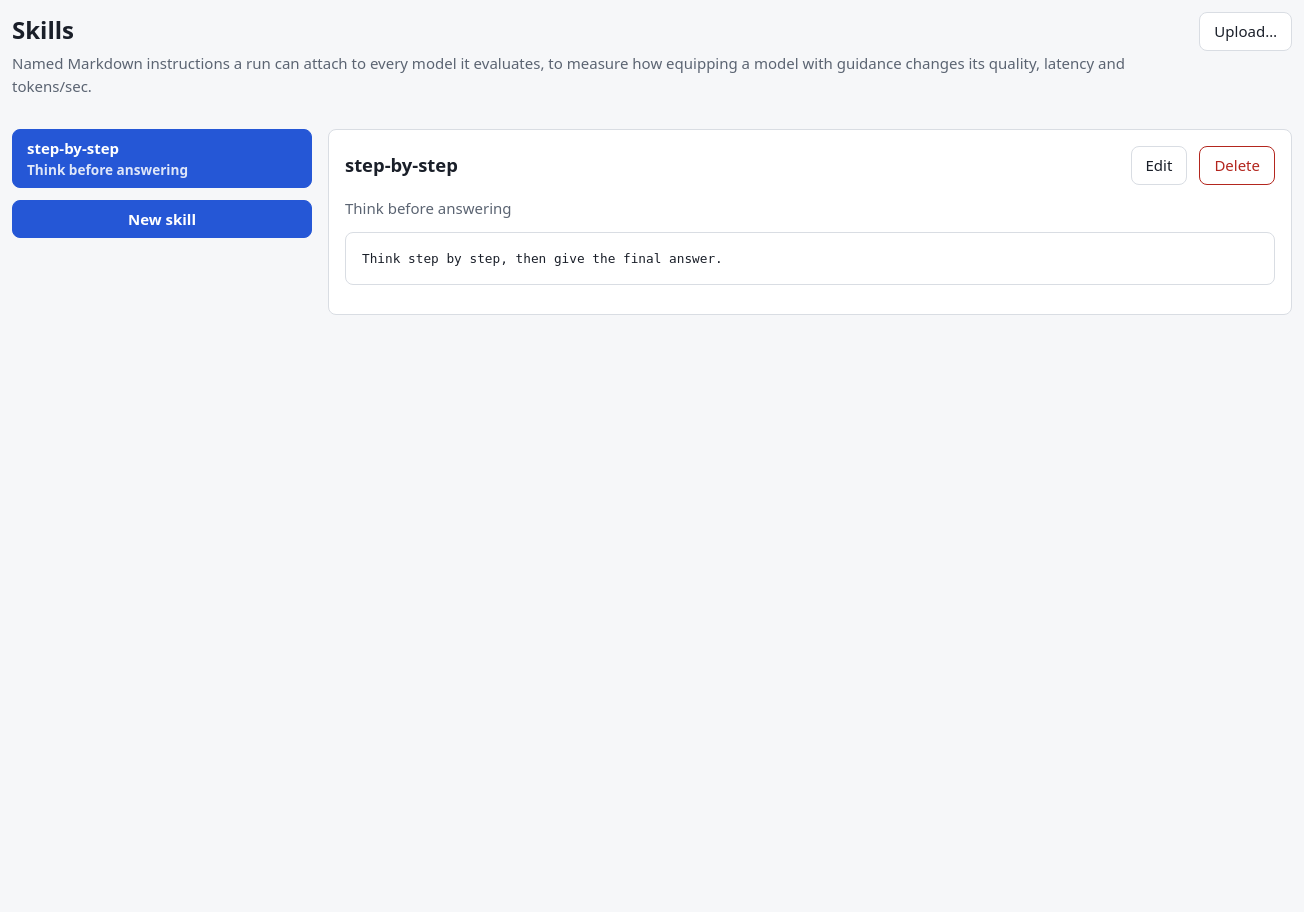
Test: skills page › edits a skill’s instructions
Click the button "Edit" at coordinates (1159, 165), box [1130,146,1187,184]
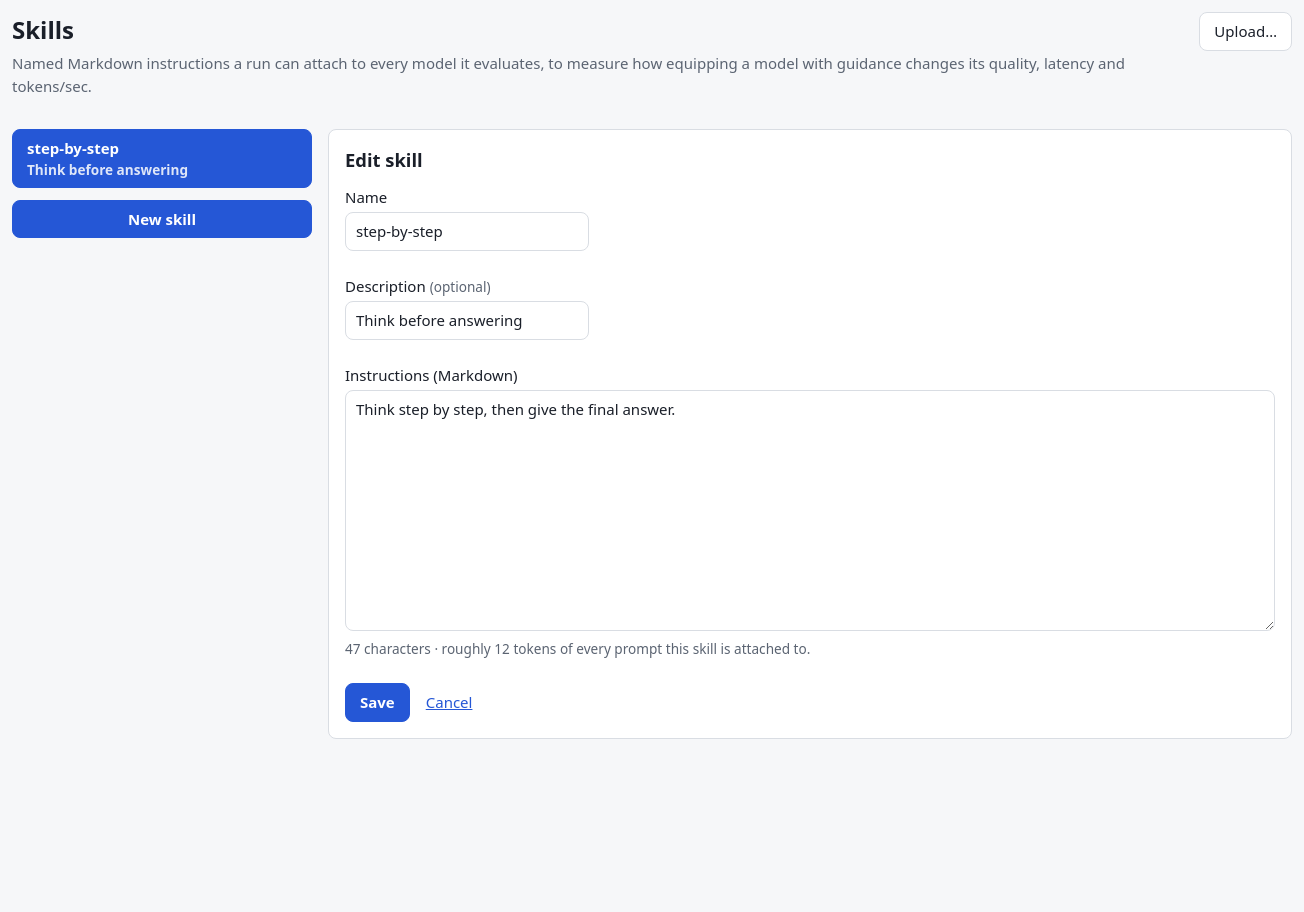
Replace the text in the text box labelled "Instructions (Markdown)" with "New instructions." at coordinates (810, 511), box [345,390,1275,631]
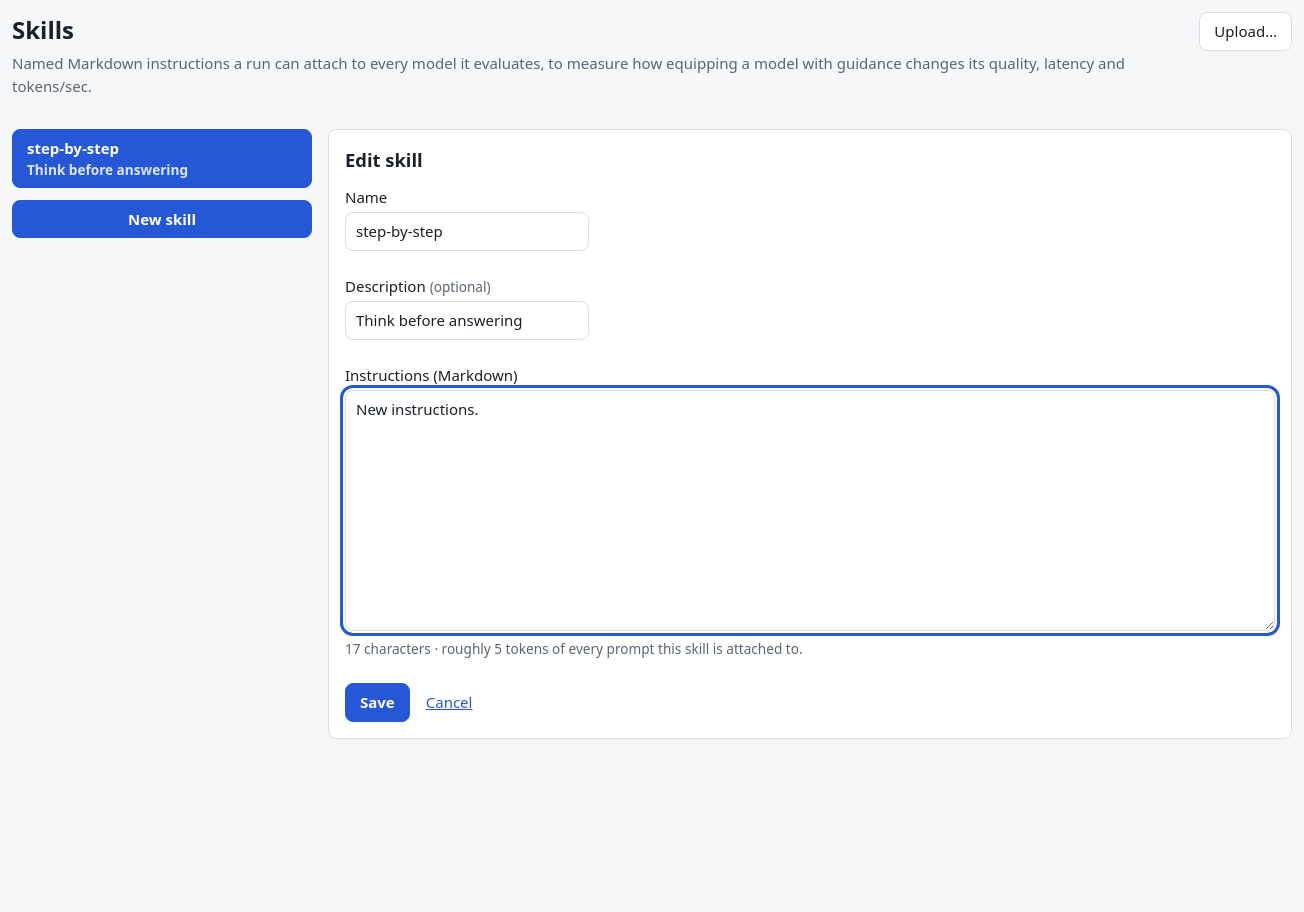
Click the button "Save" at coordinates (377, 702), box [345,683,410,722]
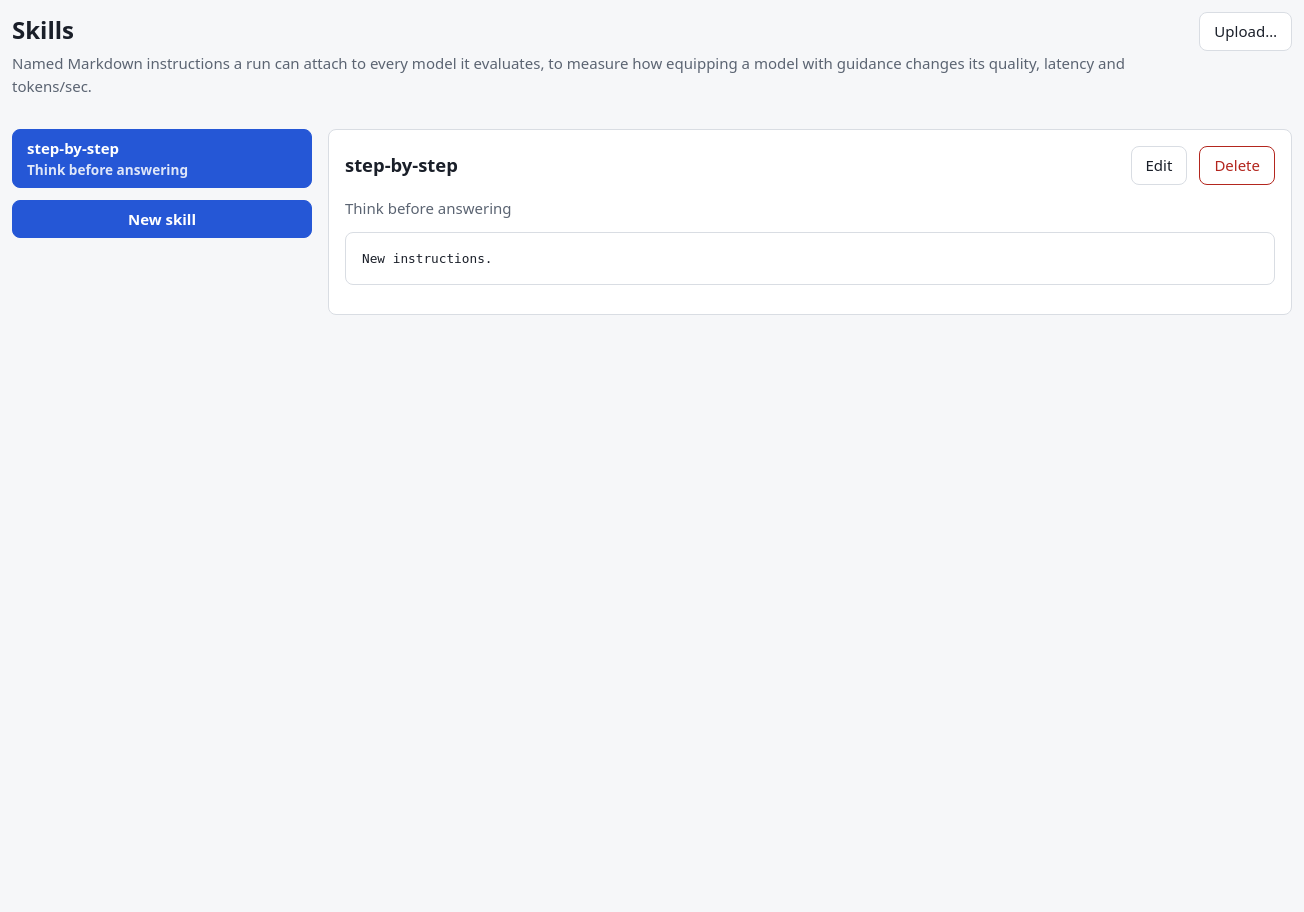
Result: the text "New instructions." is shown at [345,232,1275,285]
